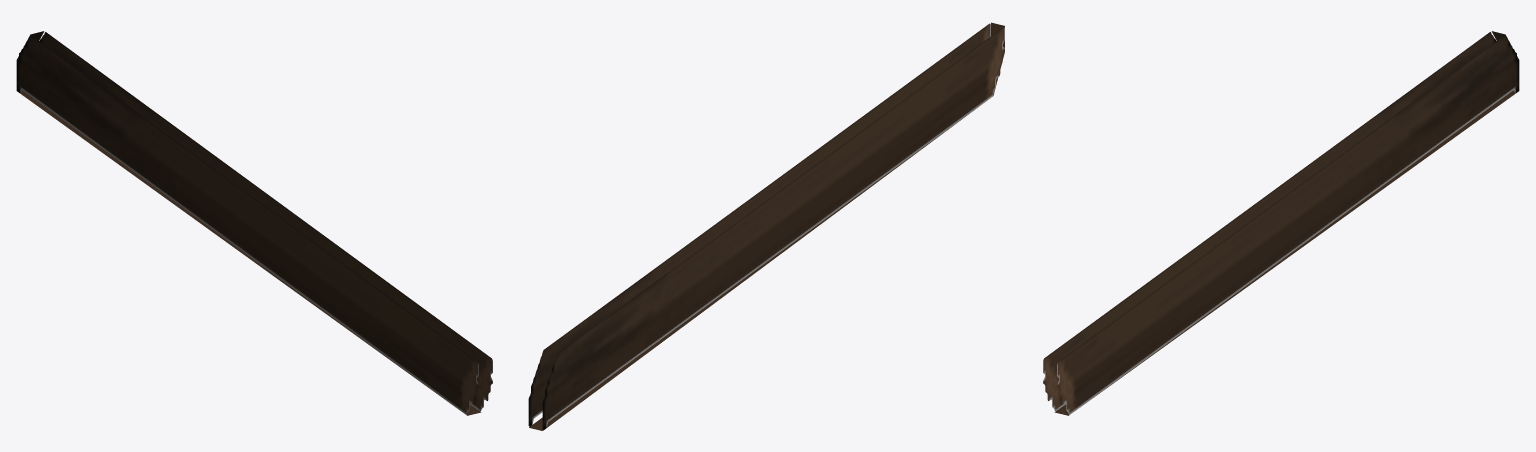
Rendered from pz_native_fixtures_railings_01_35_frame.obj.
The picture shows the model from 3 angles, left to right: view 1: azimuth 30°, elevation 25°; view 2: azimuth 150°, elevation 25°; view 3: azimuth 330°, elevation 25°; orthographic projection.
Visible parts, largest first — view 1: pz_native_fixtures_railings_01_35_frame; view 2: pz_native_fixtures_railings_01_35_frame; view 3: pz_native_fixtures_railings_01_35_frame.
Boxes of the visible parts, x1=… form: pz_native_fixtures_railings_01_35_frame: x1=16, y1=31, x2=492, y2=415; pz_native_fixtures_railings_01_35_frame: x1=528, y1=22, x2=1004, y2=430; pz_native_fixtures_railings_01_35_frame: x1=1043, y1=31, x2=1519, y2=415.
Bounding box in the file's own units: 0.045 × 0.2344 × 2.59.
1 material, 1 textured.
